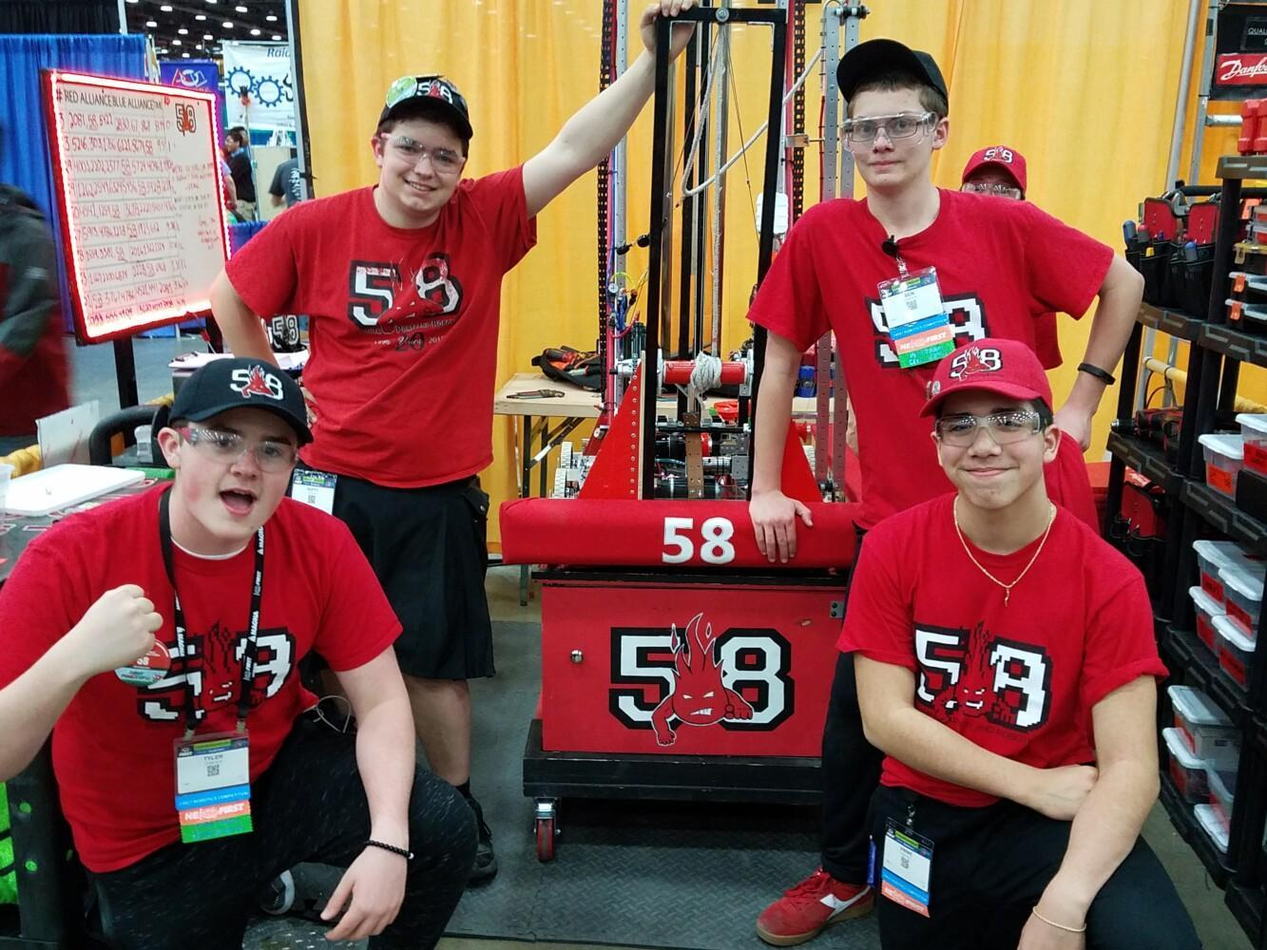robot: (500, 0, 953, 575)
